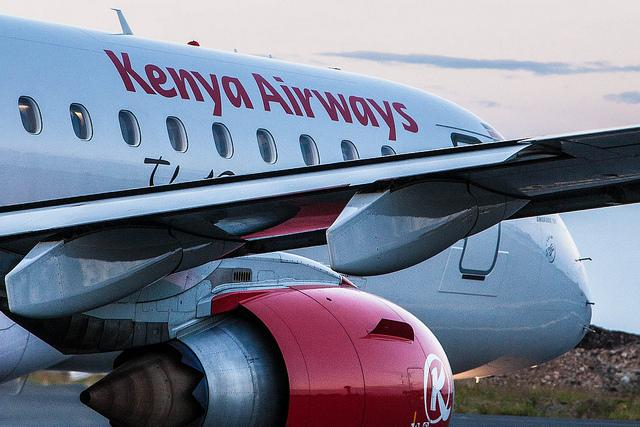airplane: (1, 5, 640, 427)
